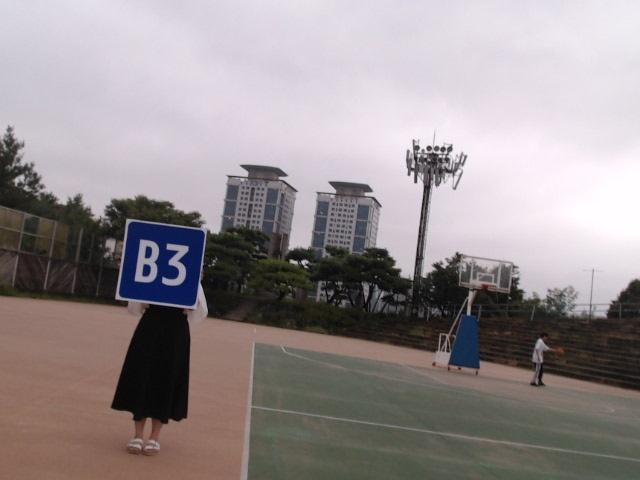delivery_b3: (116, 219, 205, 309)
